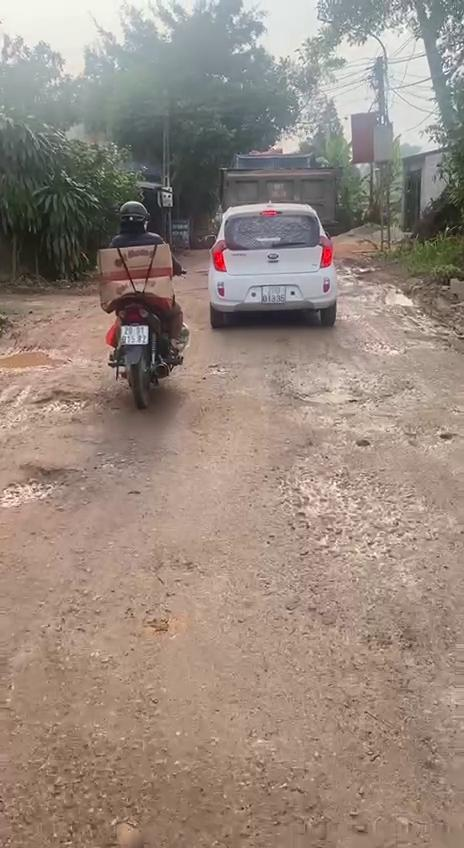pothole: (274, 458, 454, 560), (0, 456, 123, 508), (278, 364, 408, 408), (32, 386, 112, 414), (0, 344, 62, 374)
